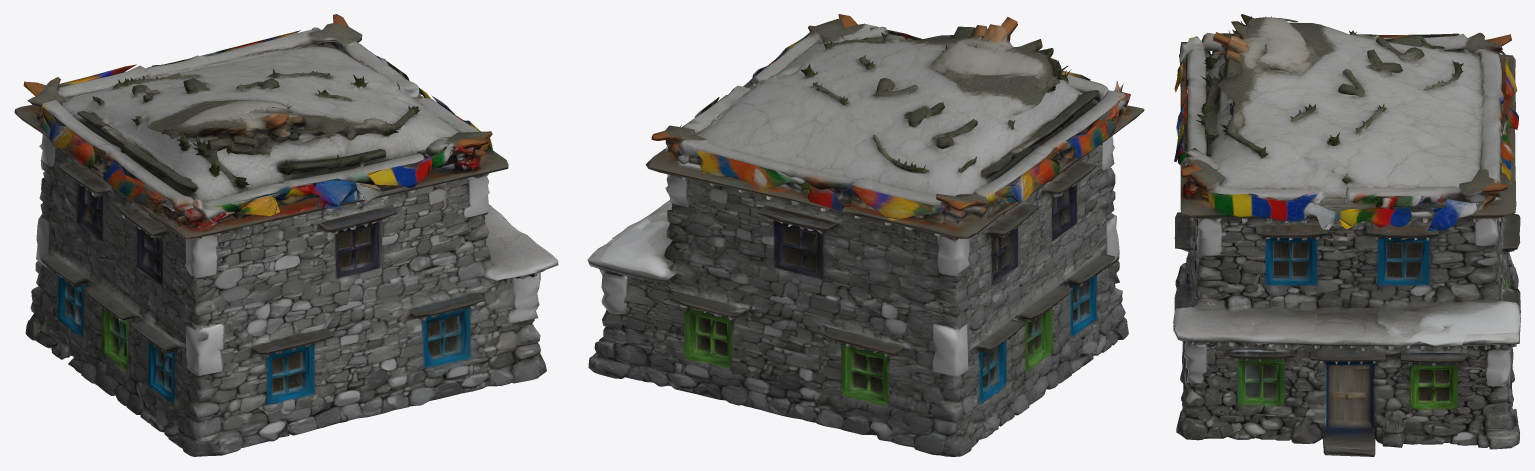
The model's file is sherpa_lodge.glb.
The picture shows the model from 3 angles, left to right: view 1: azimuth 30°, elevation 25°; view 2: azimuth 150°, elevation 25°; view 3: azimuth 270°, elevation 25°; orthographic projection. The views are drawn at different scales.
Visible parts, largest first — view 1: tripo_node_3679506c-bd1a-4adf-8f97-6015a906291a; view 2: tripo_node_3679506c-bd1a-4adf-8f97-6015a906291a; view 3: tripo_node_3679506c-bd1a-4adf-8f97-6015a906291a.
Part boxes in pixels (<box>): tripo_node_3679506c-bd1a-4adf-8f97-6015a906291a: <box>14,14,558,456</box>; tripo_node_3679506c-bd1a-4adf-8f97-6015a906291a: <box>587,14,1144,456</box>; tripo_node_3679506c-bd1a-4adf-8f97-6015a906291a: <box>1173,14,1520,456</box>.
Size of the model in its own units: 4.96 by 3.5 by 3.81.
1 material, 1 textured.
